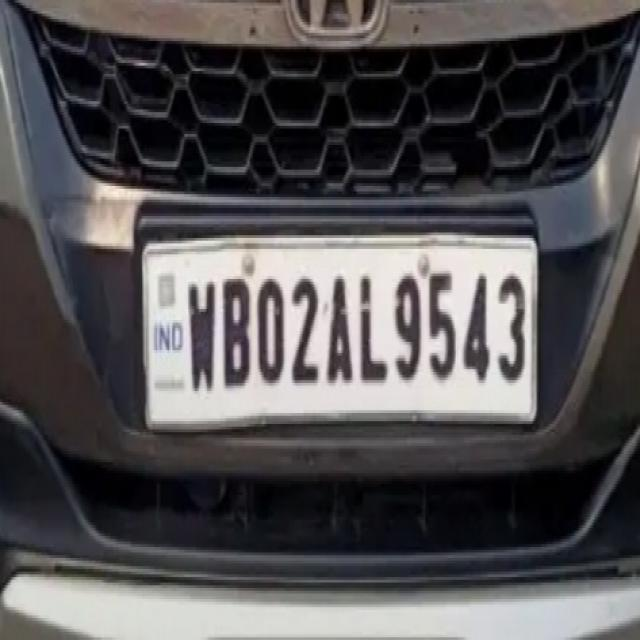0: (255, 260, 290, 401)
3: (494, 249, 534, 413)
4: (456, 259, 496, 399)
5: (424, 262, 456, 402)
9: (391, 262, 424, 394)
A: (324, 264, 357, 396)
B: (220, 260, 254, 396)
L: (356, 257, 392, 393)
W: (180, 258, 219, 402)
